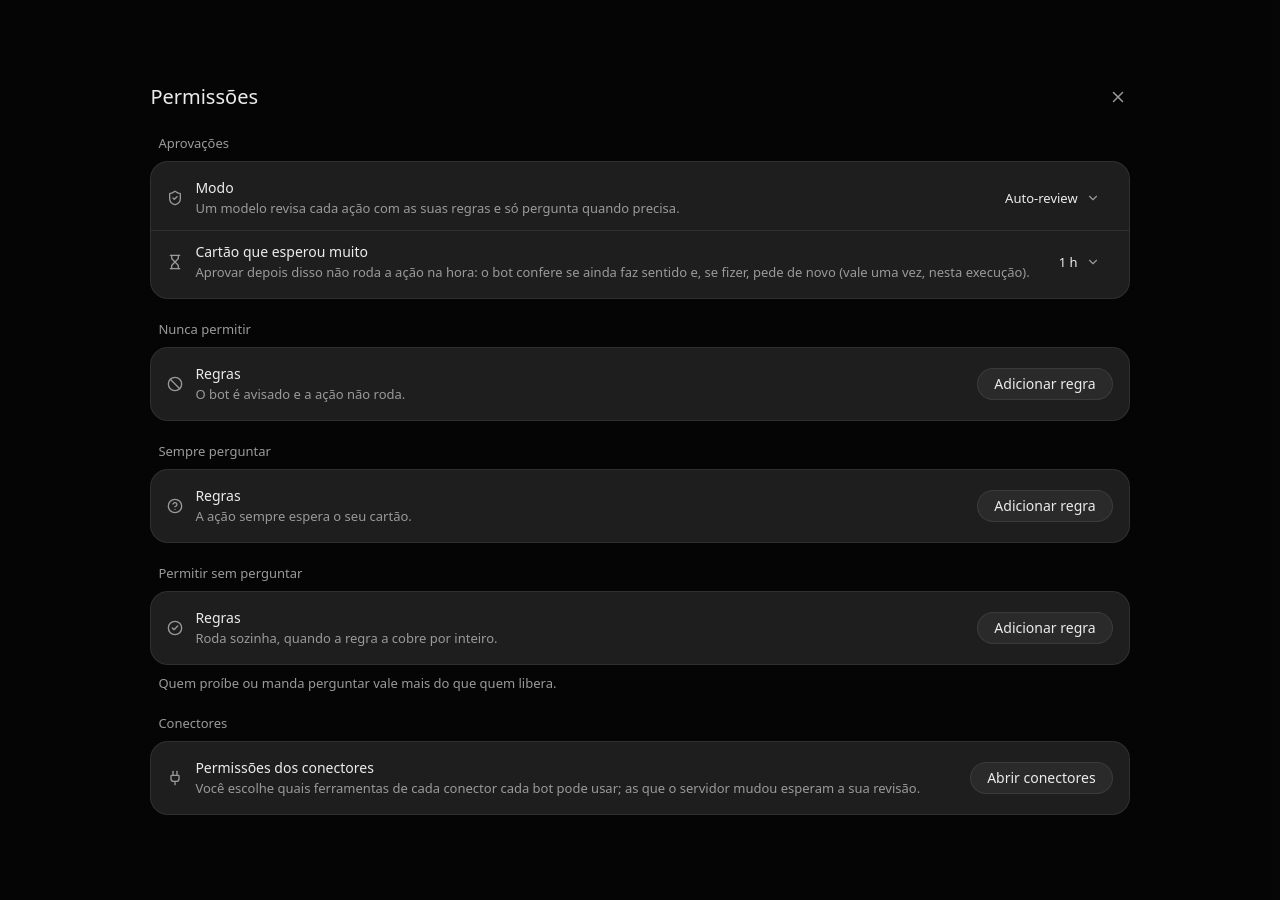
Test case: Permissões: the card that waited too long › goes back, with the server's words, when it refuses
Click the dropdown with test id "approval-stale" at {"x": 1079, "y": 262}, box [1046,246,1113,278]
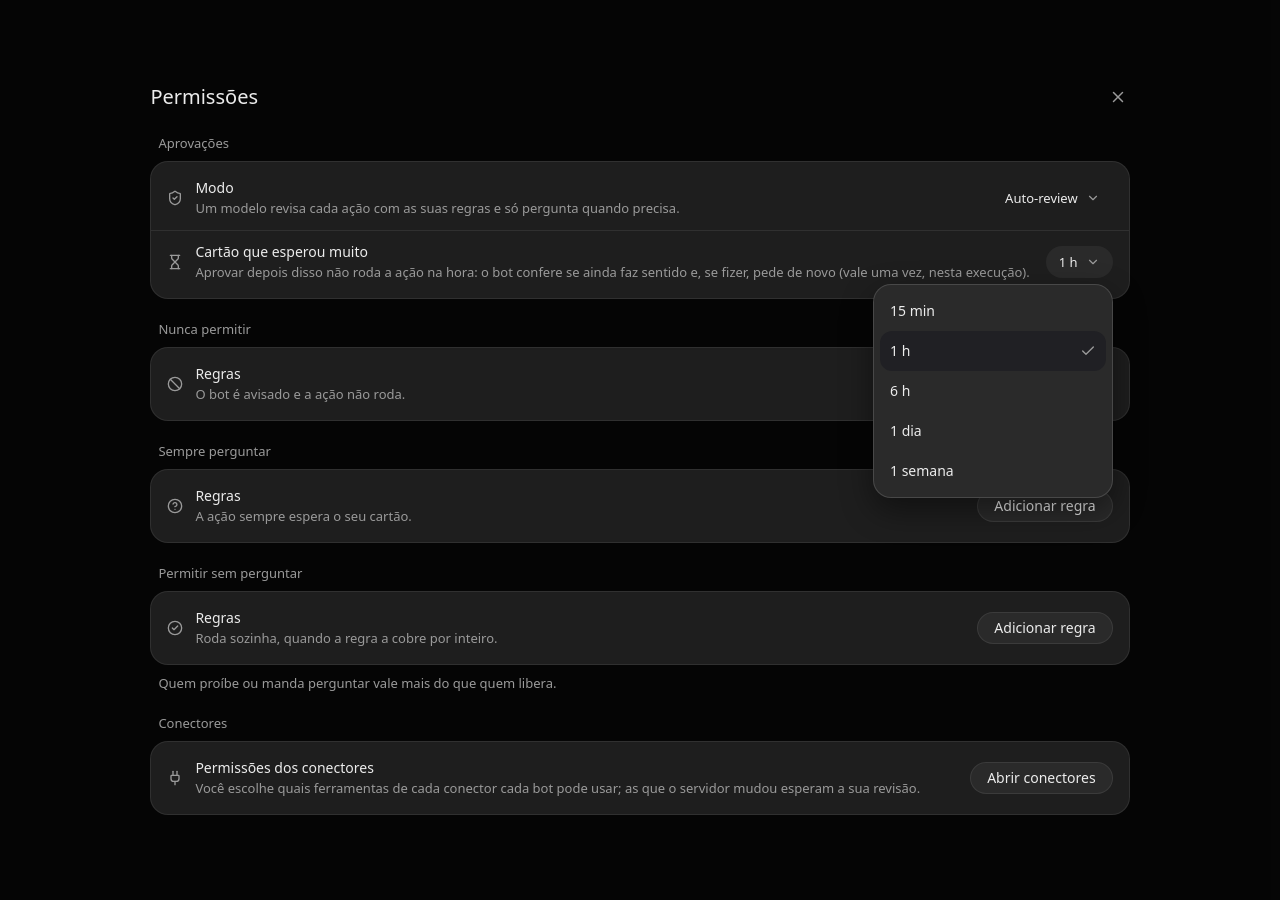
Click the option "15 min" at {"x": 912, "y": 310}, box [890,301,935,320]
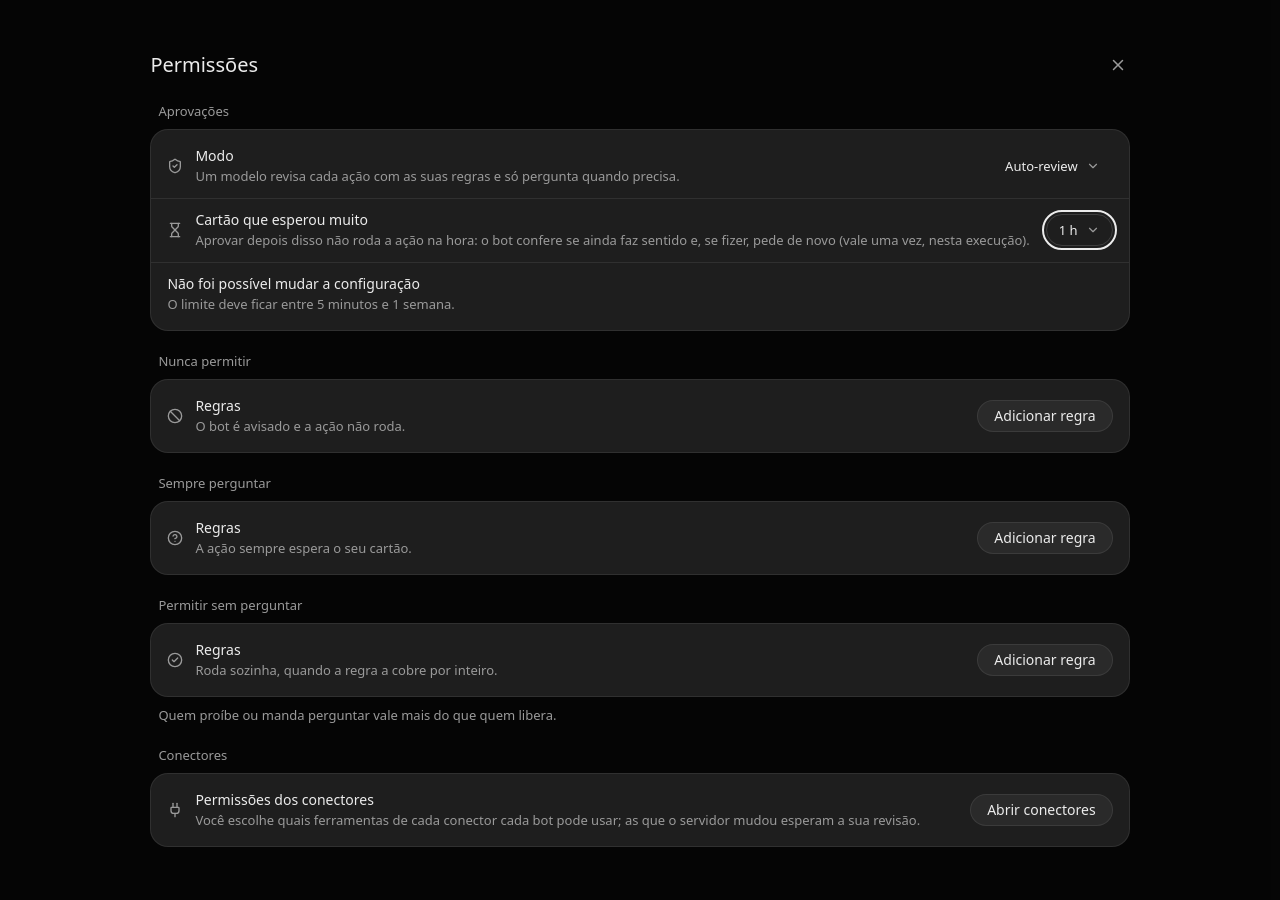
Expected: the dropdown with test id "approval-stale" reads "1 h", [1046,214,1113,246]
Expected: the element that starts with "Não foi possível mudar a configuração" shows "entre 5 minutos", [167,295,455,313]
